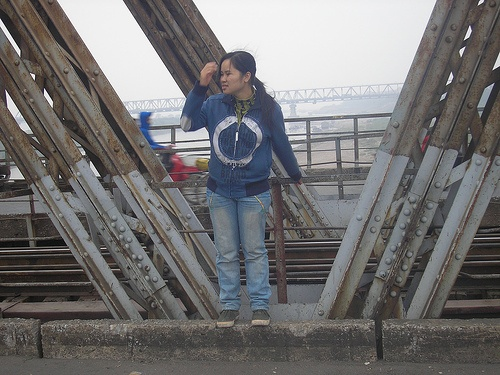head: (218, 50, 257, 97)
person: (174, 49, 305, 326)
